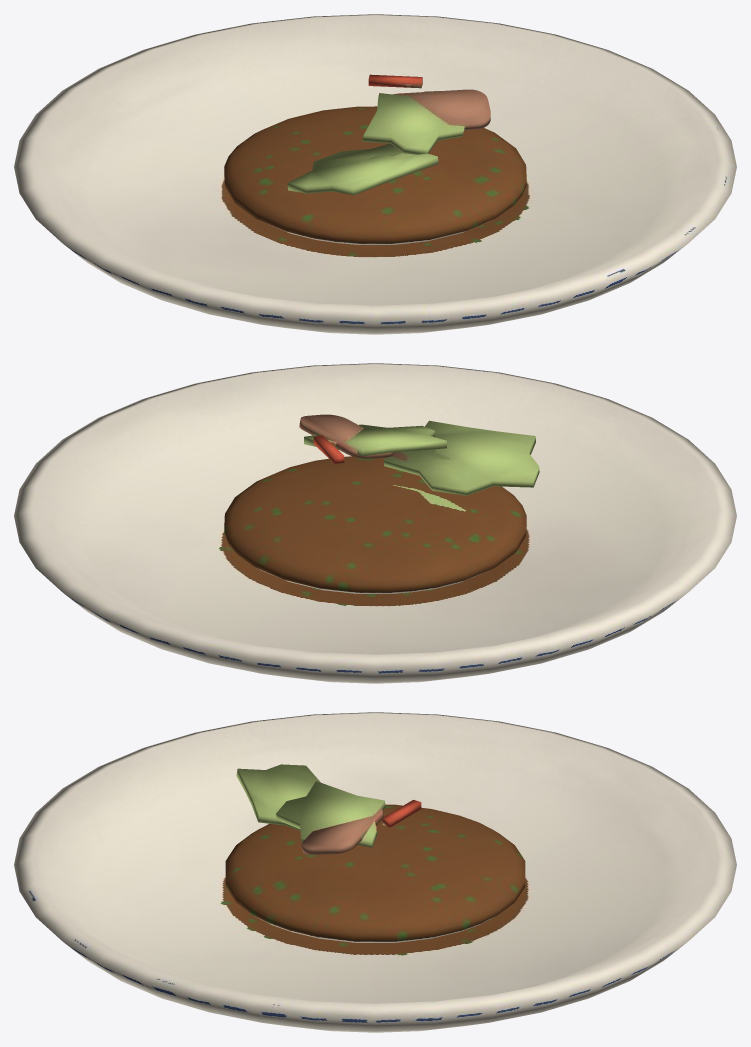
The model's file is yakisoba_nn2.glb.
3 views of the same model, one above another, from view 1: azimuth 30°, elevation 25°; view 2: azimuth 150°, elevation 25°; view 3: azimuth 270°, elevation 25° (orthographic).
Parts seen in each view (by area): view 1: prop_yakisoba_nn2_felt; view 2: prop_yakisoba_nn2_felt; view 3: prop_yakisoba_nn2_felt.
Part boxes in pixels (left/top/right/bottom): prop_yakisoba_nn2_felt: left=14, top=14, right=736, bottom=334; prop_yakisoba_nn2_felt: left=14, top=363, right=736, bottom=683; prop_yakisoba_nn2_felt: left=14, top=712, right=736, bottom=1032.
Size of the model in its own units: 0.306 by 0.0603 by 0.306.
1 material, 1 textured.
